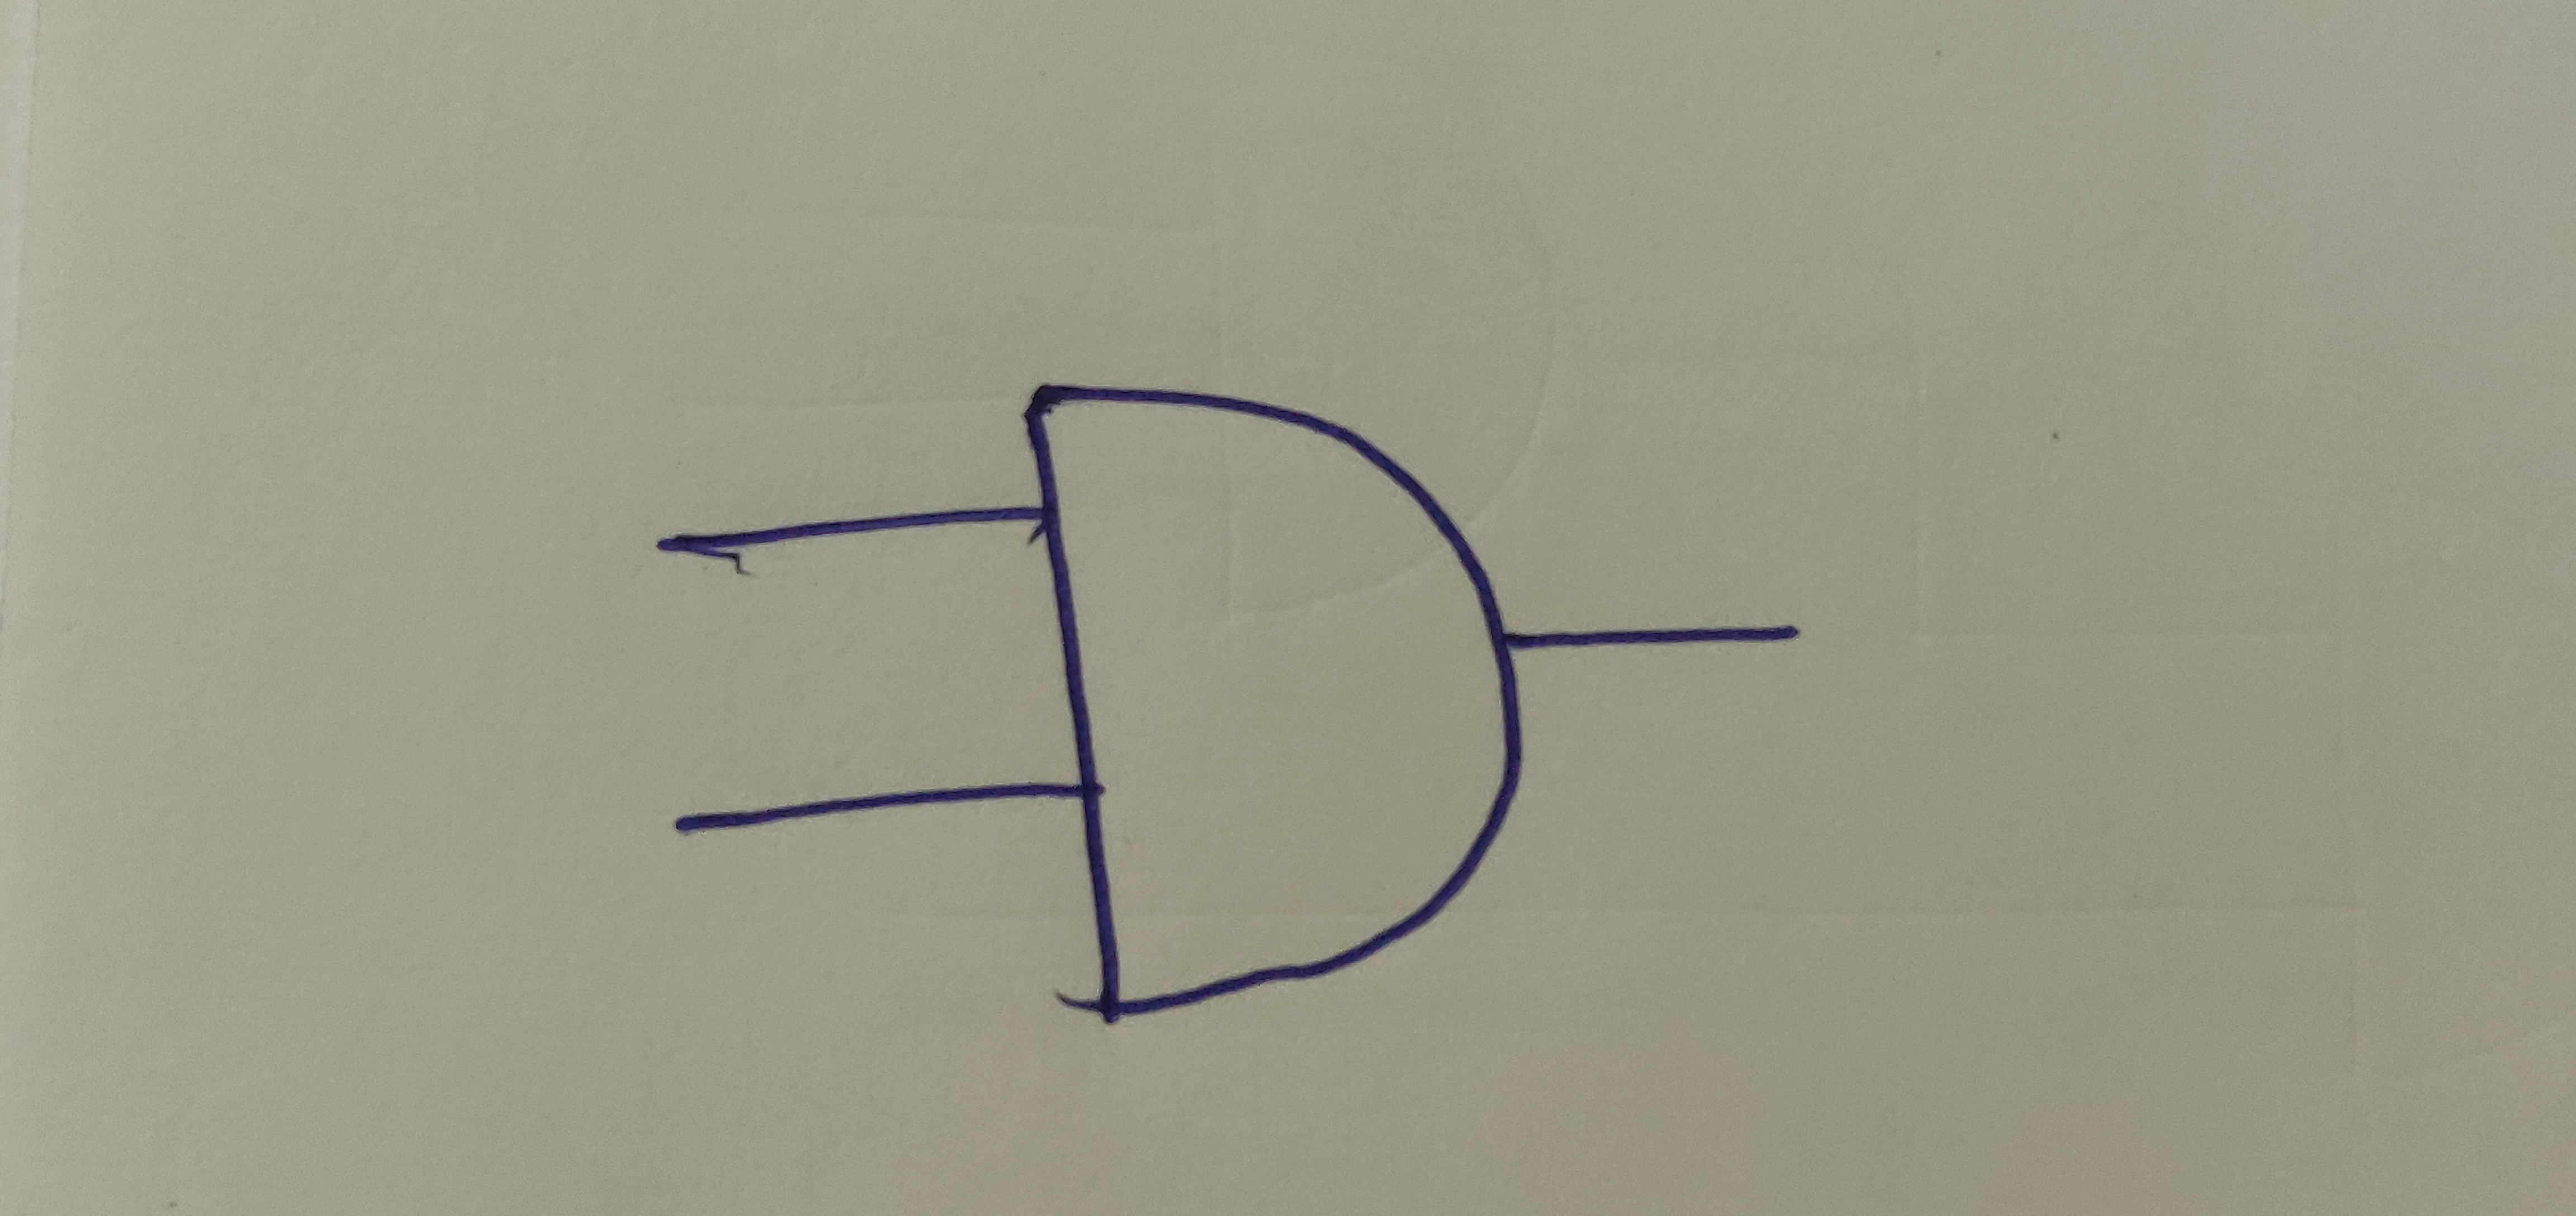and: (1015, 383, 1529, 1019)
